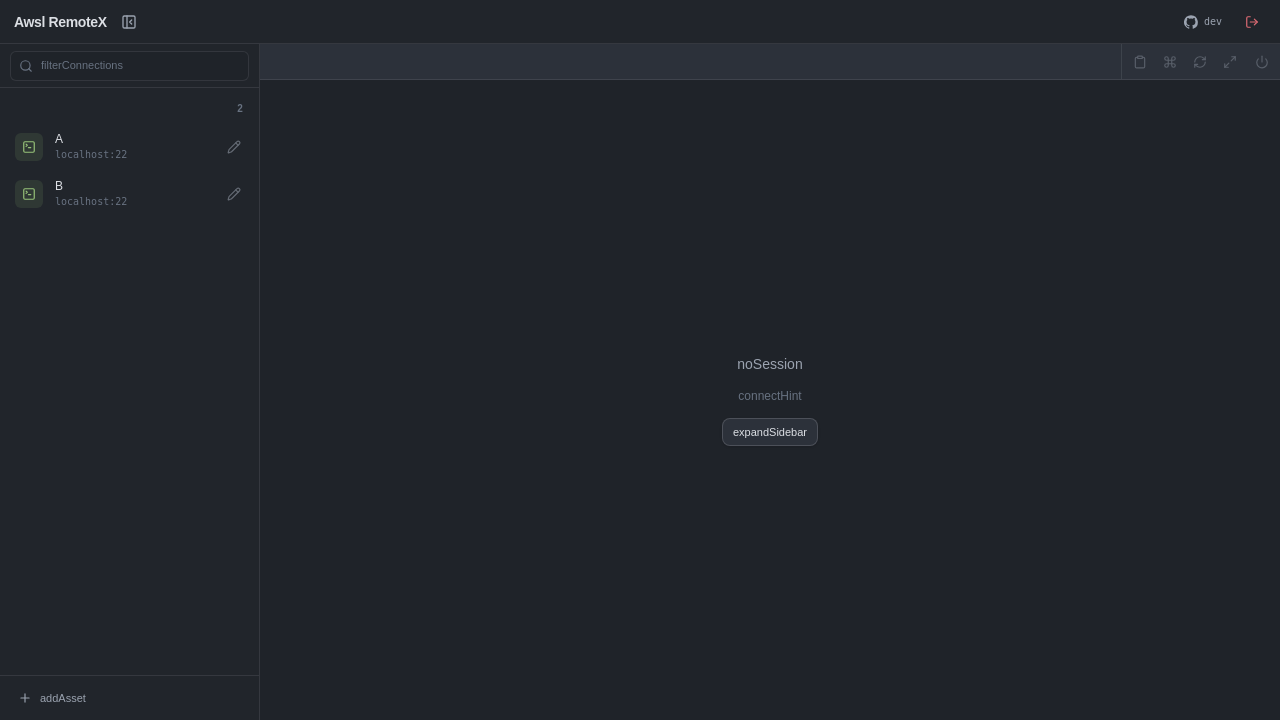
logout lifecycle › recovers the workspace after logout fails and permits a fresh connection and retry
The width and height of the screenshot is (1280, 720).
Double-click the button titled "doubleClickConnect": (130, 146) [9, 125, 250, 168]
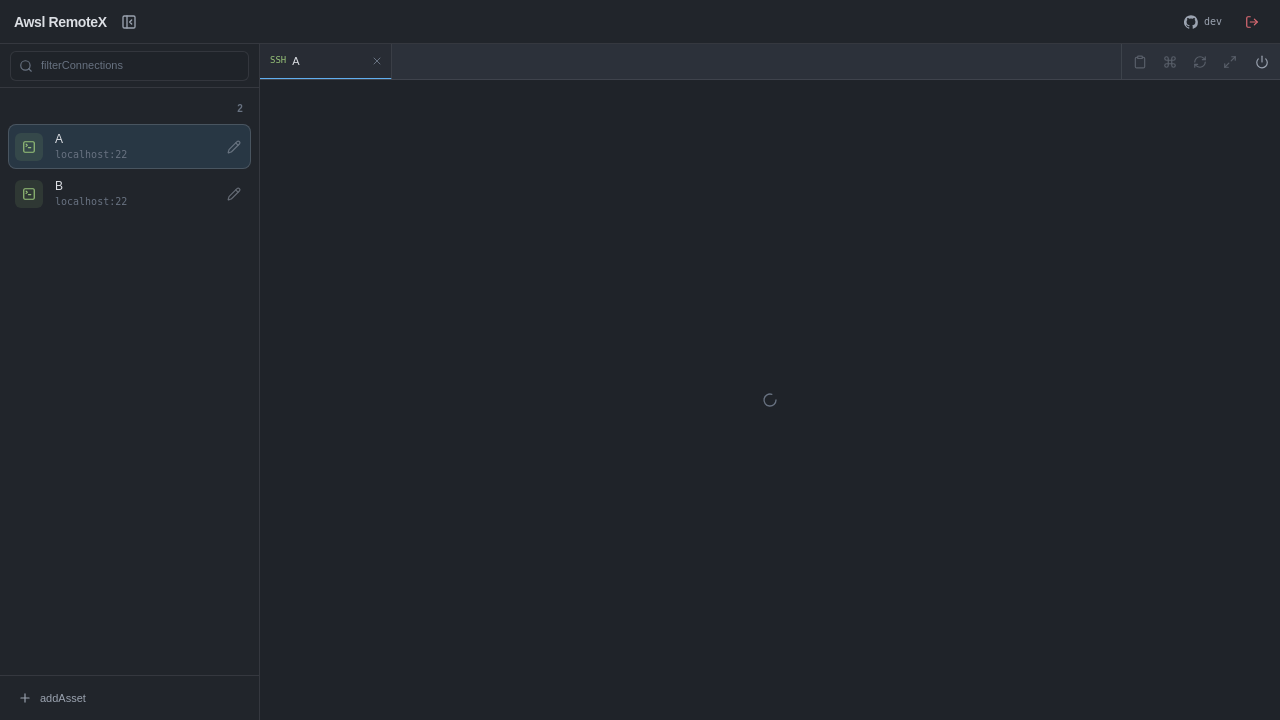
Click the button named "logout": click(1252, 22) [1238, 8, 1266, 36]
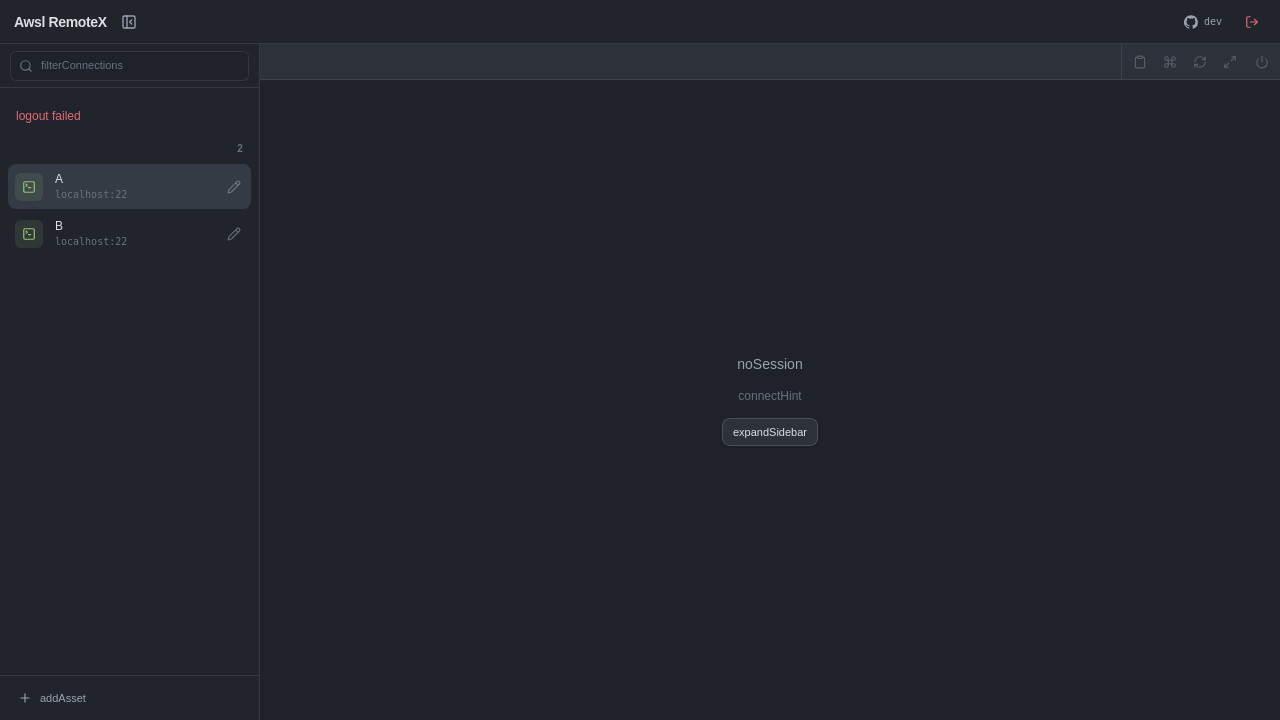
Expected: the element showing "logout failed 2 A localhost:22 B localhost:22 addAsset" is shown, [0, 44, 260, 719]
Expected: the text "logout failed" is shown, [16, 109, 81, 123]
Expected: no tabs are shown
Double-click the button titled "doubleClickConnect": (130, 234) [9, 212, 250, 255]
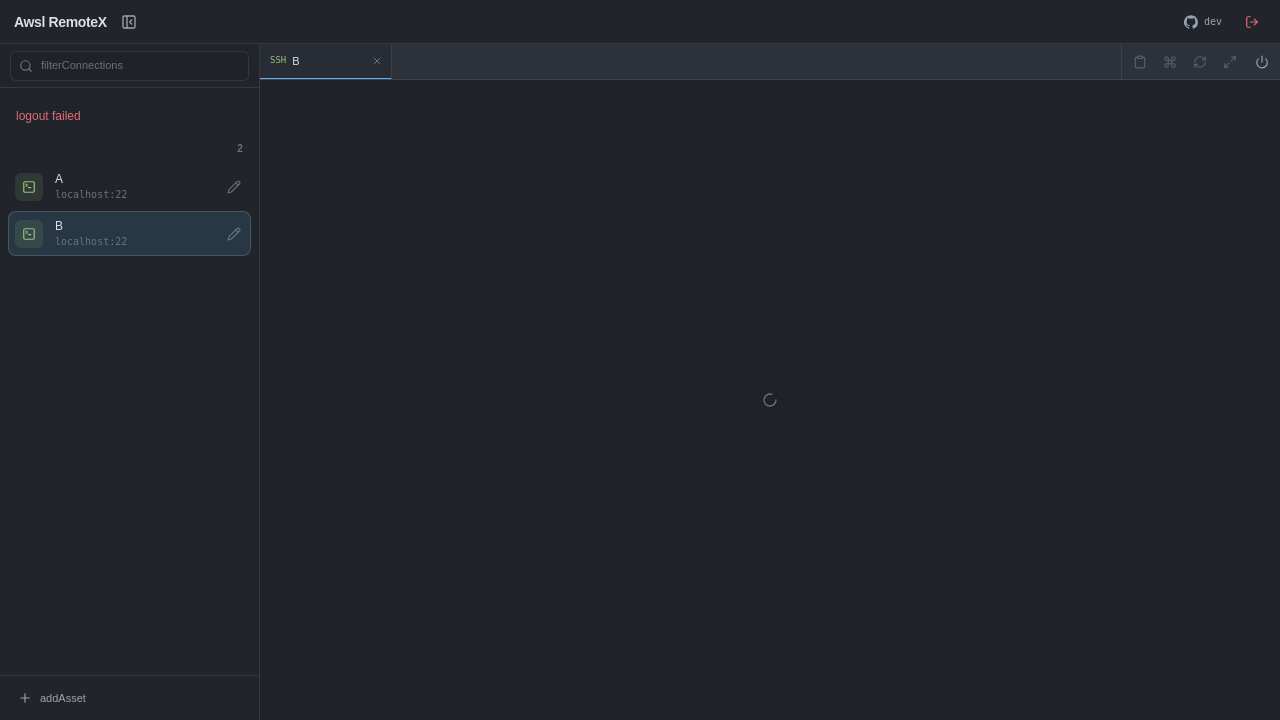
Click the button named "logout": click(1252, 22) [1238, 8, 1266, 36]
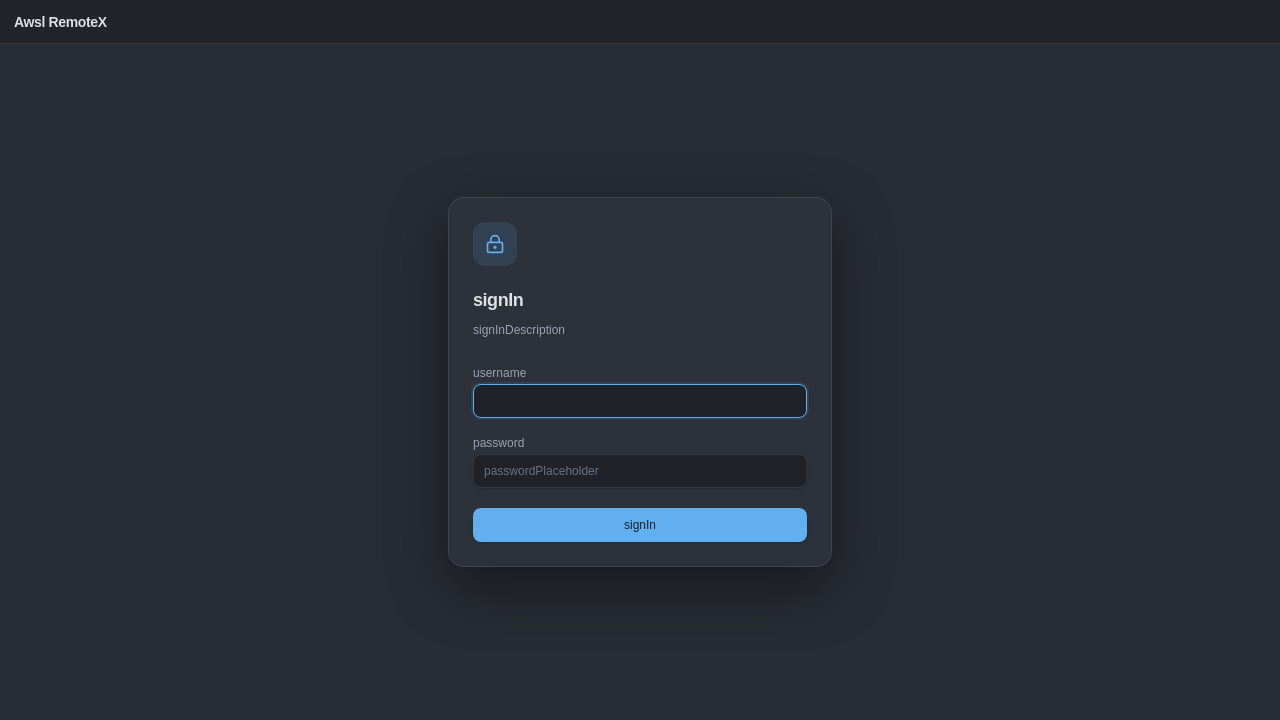
Expected: the password field labelled "password" is shown, [473, 454, 807, 488]
